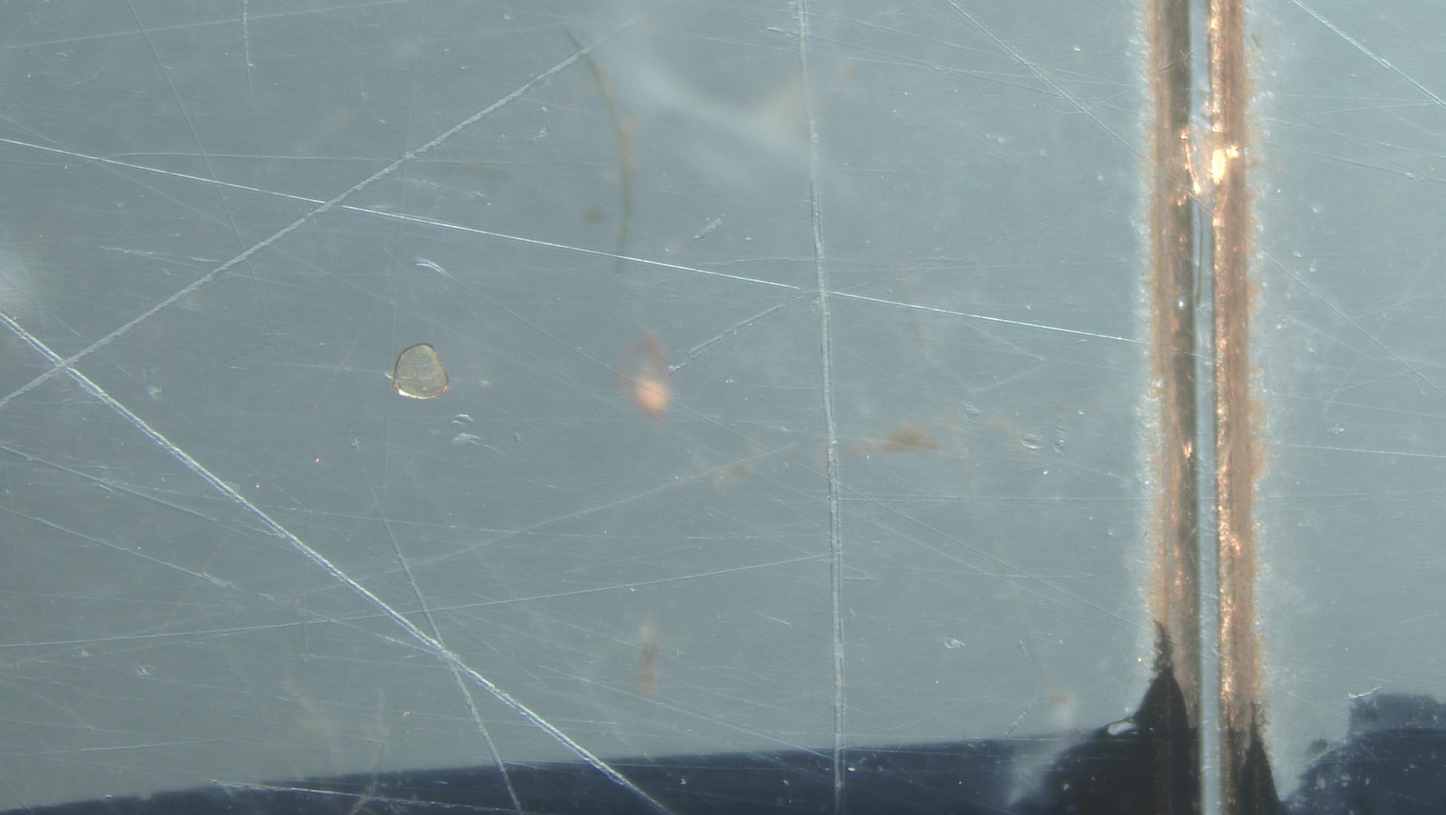dead: (389, 344, 450, 400)
